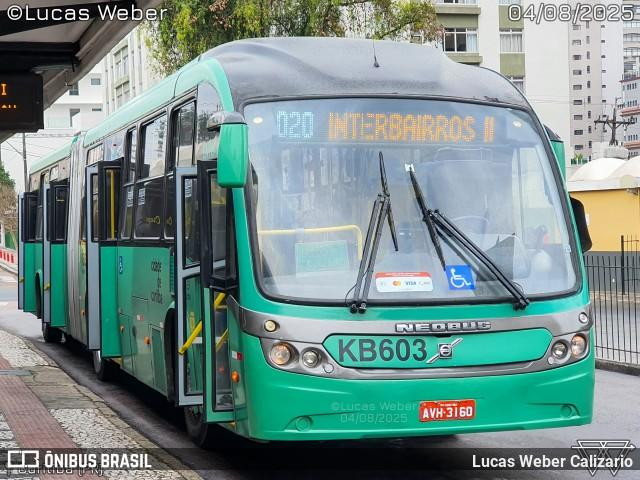INTERBAIRROS II: (321, 105, 501, 148)
